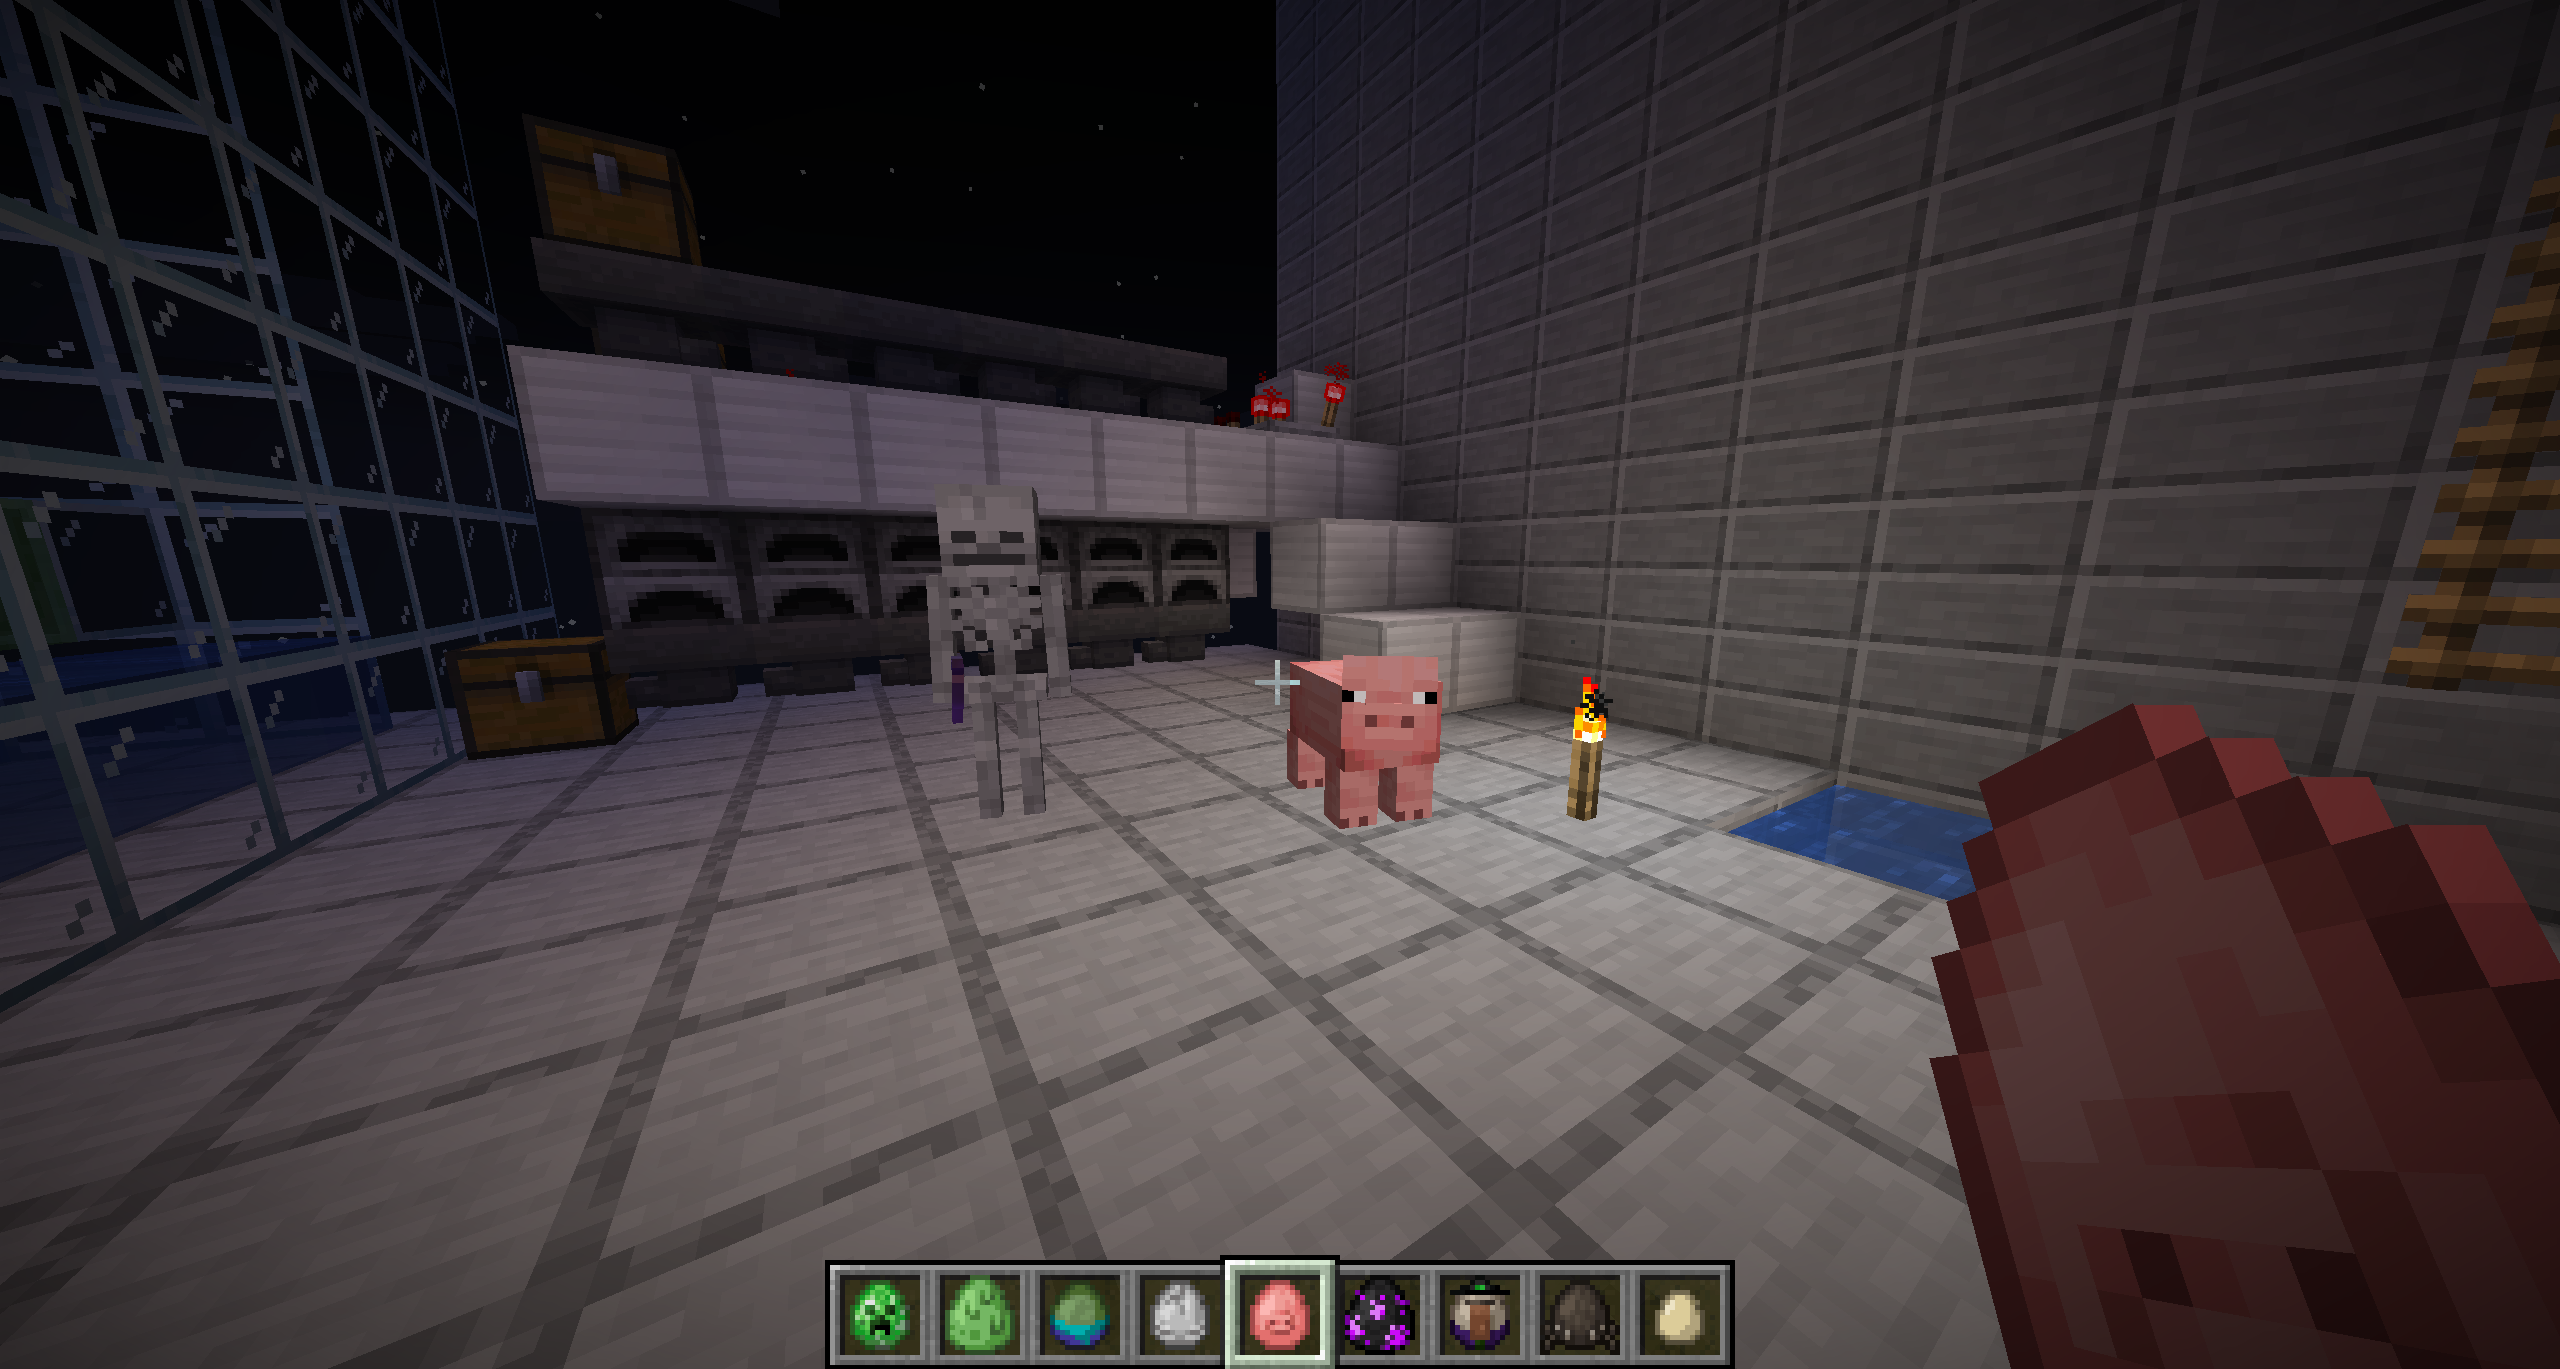cochons: (1278, 648, 1458, 827)
squelettes: (926, 479, 1075, 817)
